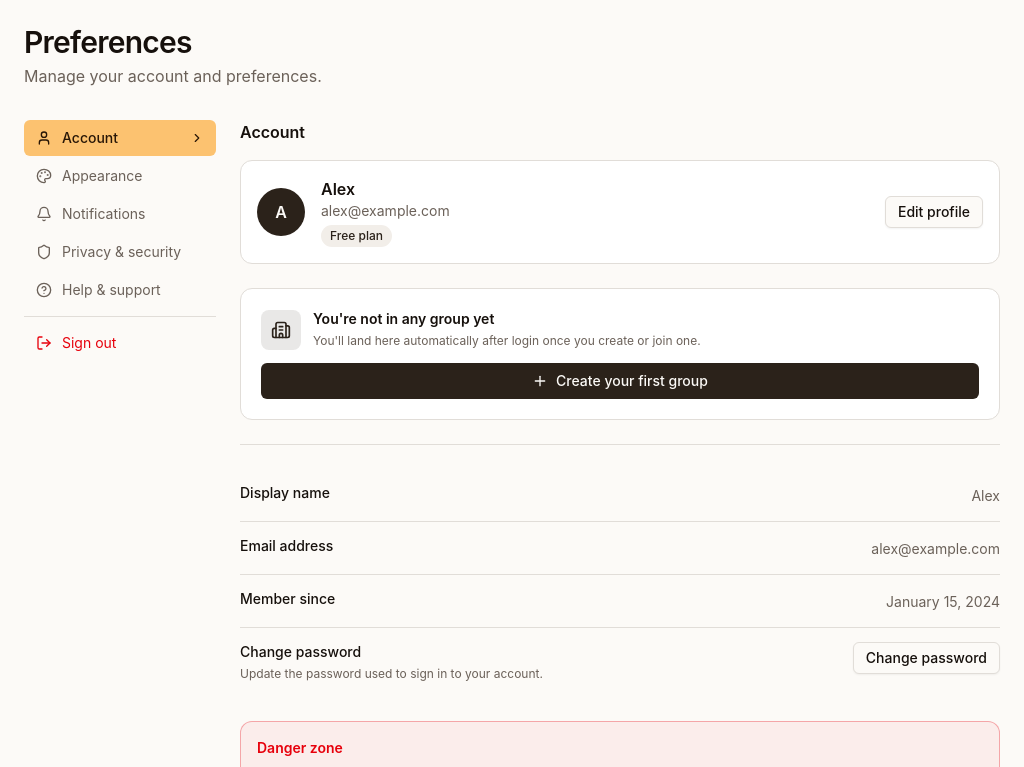
Test: <SettingsPage /> › privacy section: MFA row (#1645) + sessions/history links (#1644) + connected-accounts stub
This screenshot has width=1024, height=767.
What coordinates should you click on to do the following:
click the button with test id "settings-nav-privacy"
I would click on:
 (120, 252)
Its box is [24,234,216,270].
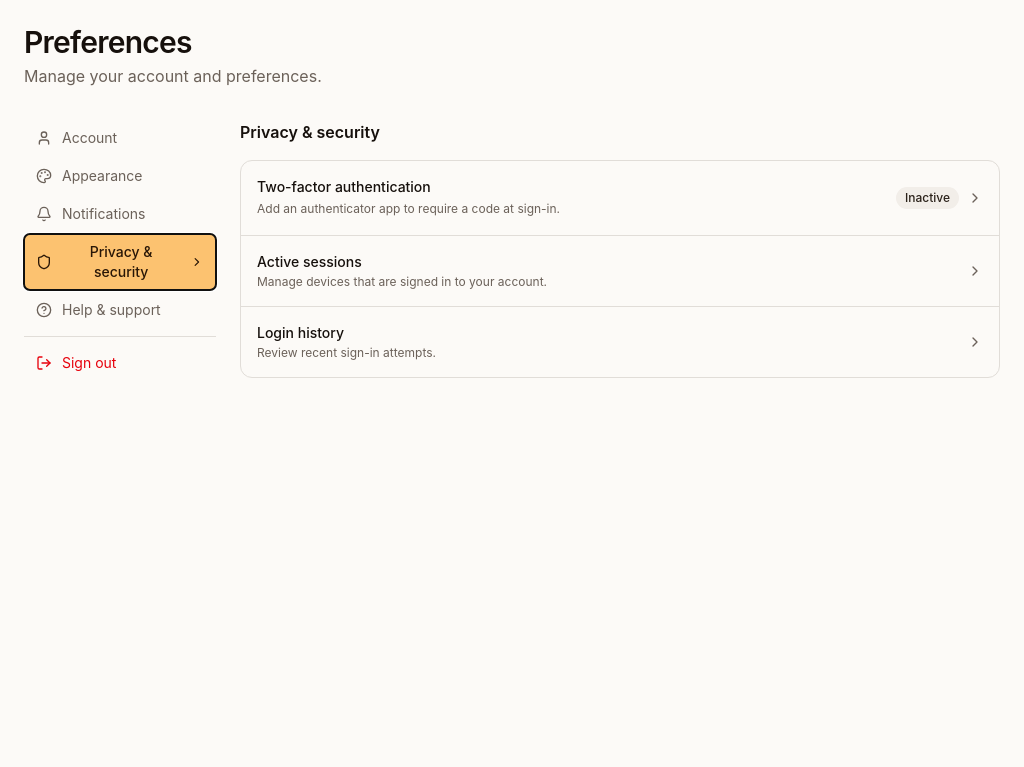
Now the button with test id "privacy-mfa-row" is shown, box [241,161,999,236]
